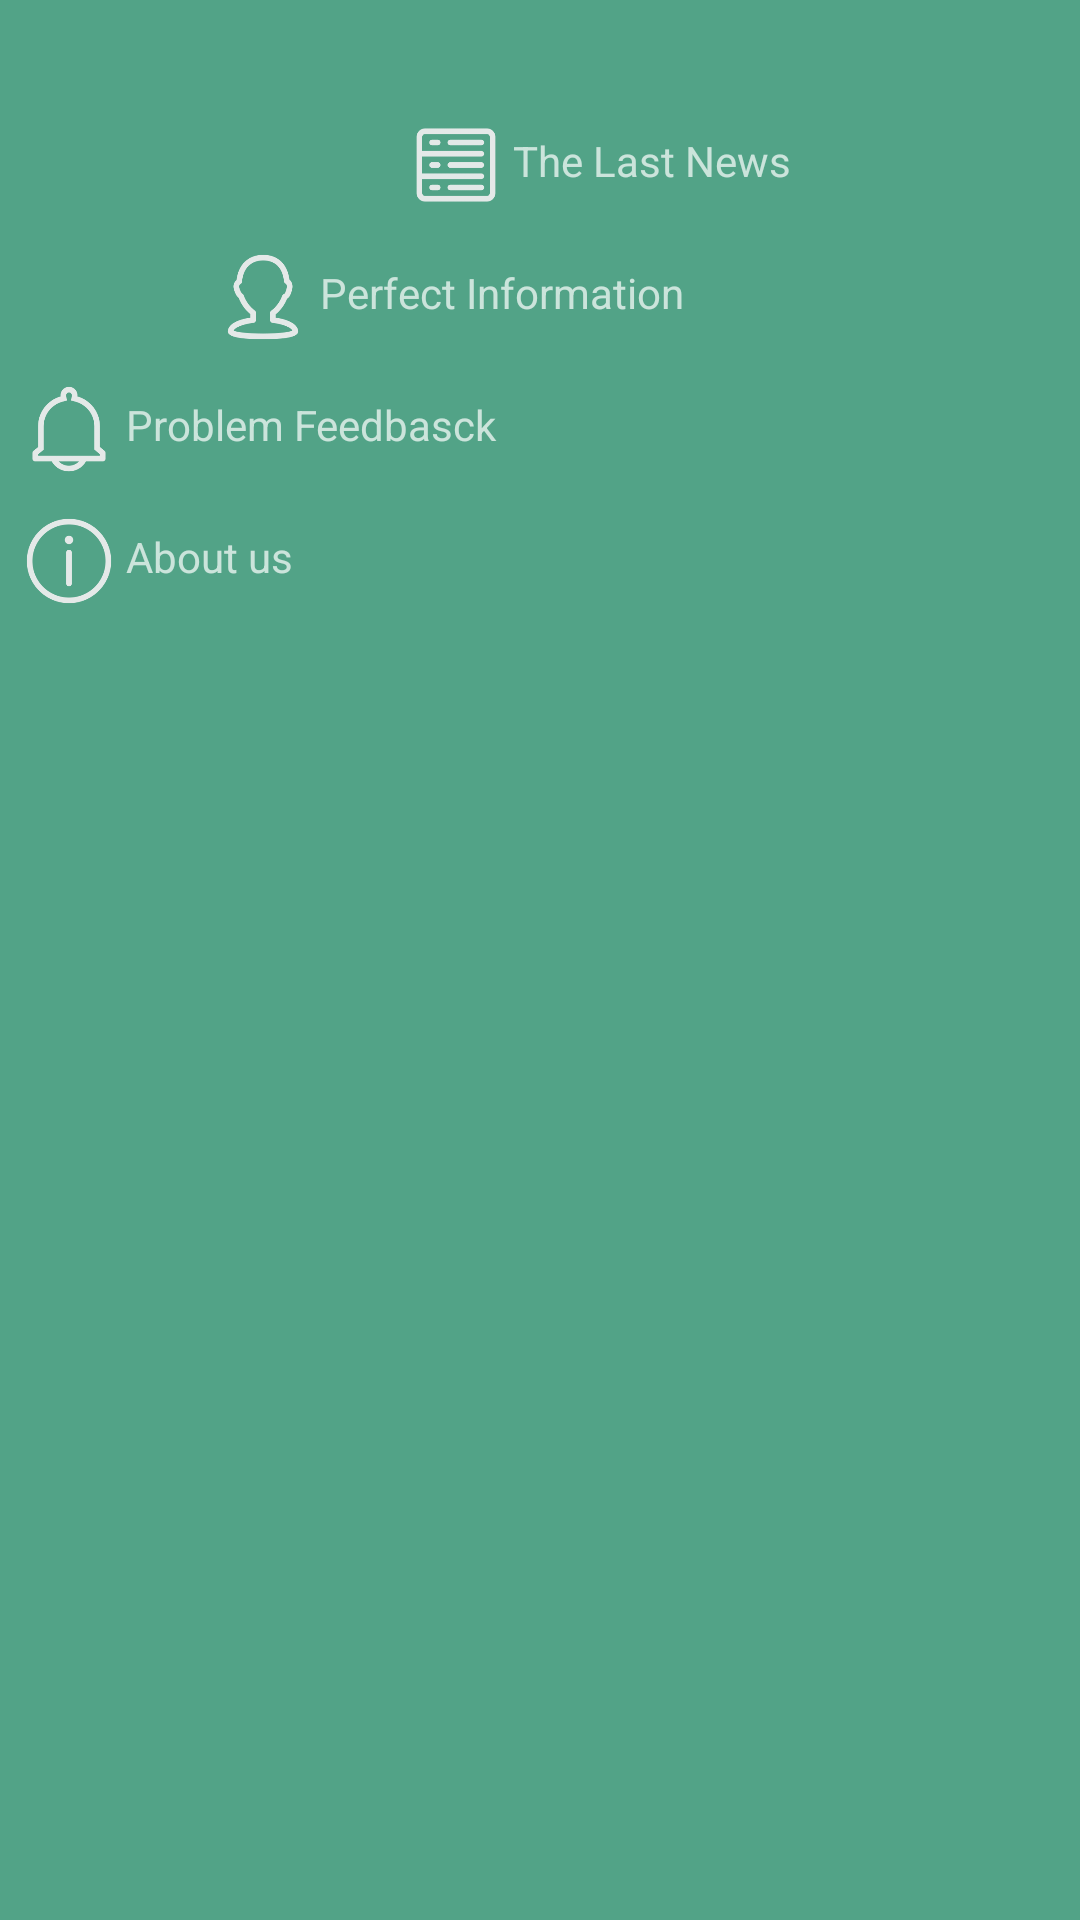

Screen size 1080*1920. Icon name, then its box in pixels as (x1, y1, x2, y2):
zhanghao: (228, 255, 298, 339)
